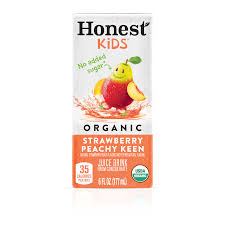Juice_Box: (66, 6, 155, 193)
